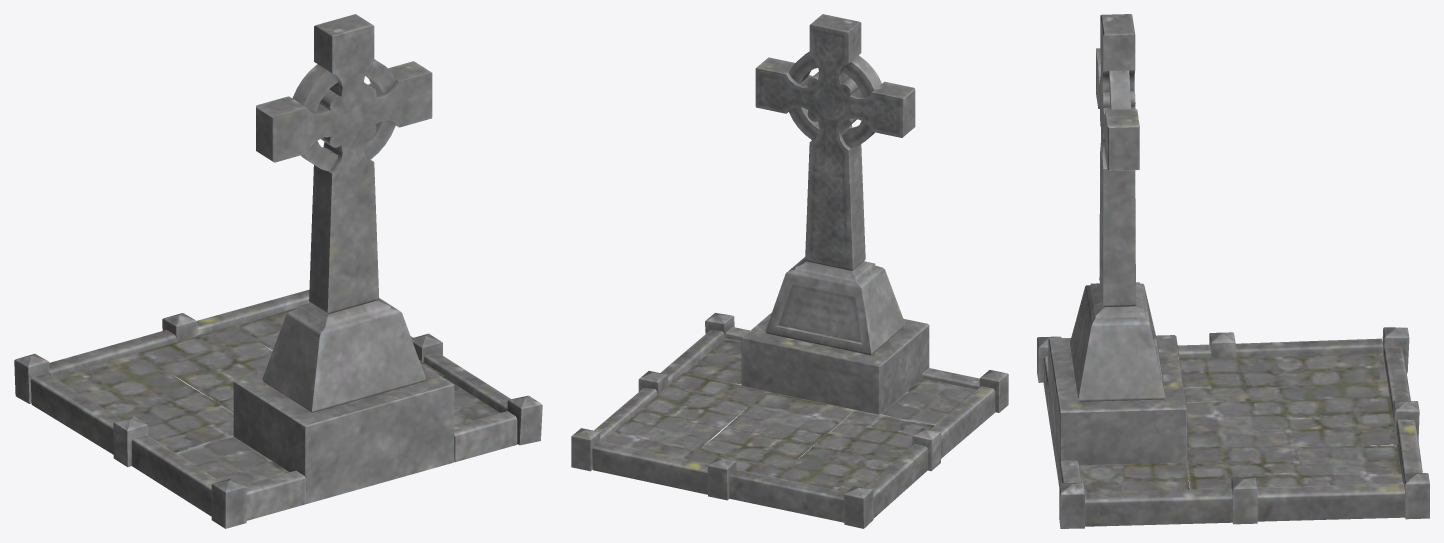
Rendered from Cemetery_OBJ_Tombstone_01.fbx.
3 renders of one model, left to right at view 1: azimuth 30°, elevation 25°; view 2: azimuth 150°, elevation 25°; view 3: azimuth 270°, elevation 25°, orthographic. The views are drawn at different scales.
Parts seen in each view (by area): view 1: Cemetery_OBJ_Tombstone_01; view 2: Cemetery_OBJ_Tombstone_01; view 3: Cemetery_OBJ_Tombstone_01.
Boxes of the visible parts, x1,y1,x2,y2 form: Cemetery_OBJ_Tombstone_01: [14, 14, 542, 528]; Cemetery_OBJ_Tombstone_01: [571, 14, 1008, 528]; Cemetery_OBJ_Tombstone_01: [1037, 14, 1429, 528].
Bounding box in the file's own units: 138 × 164 × 137.
1 material, 1 textured.
